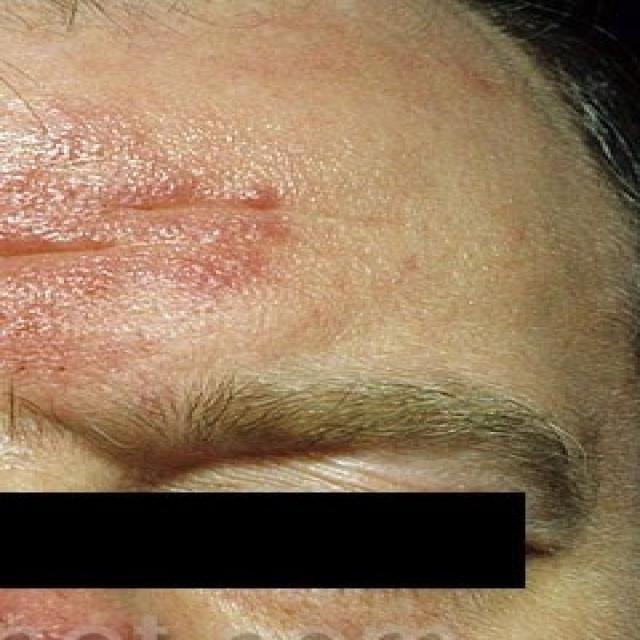Rosacea: (0, 137, 276, 374)
